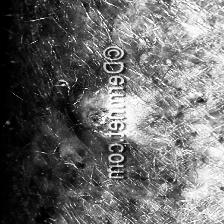Potentially Malignant Skin Tumors: (64, 81, 106, 141), (122, 83, 160, 145)
